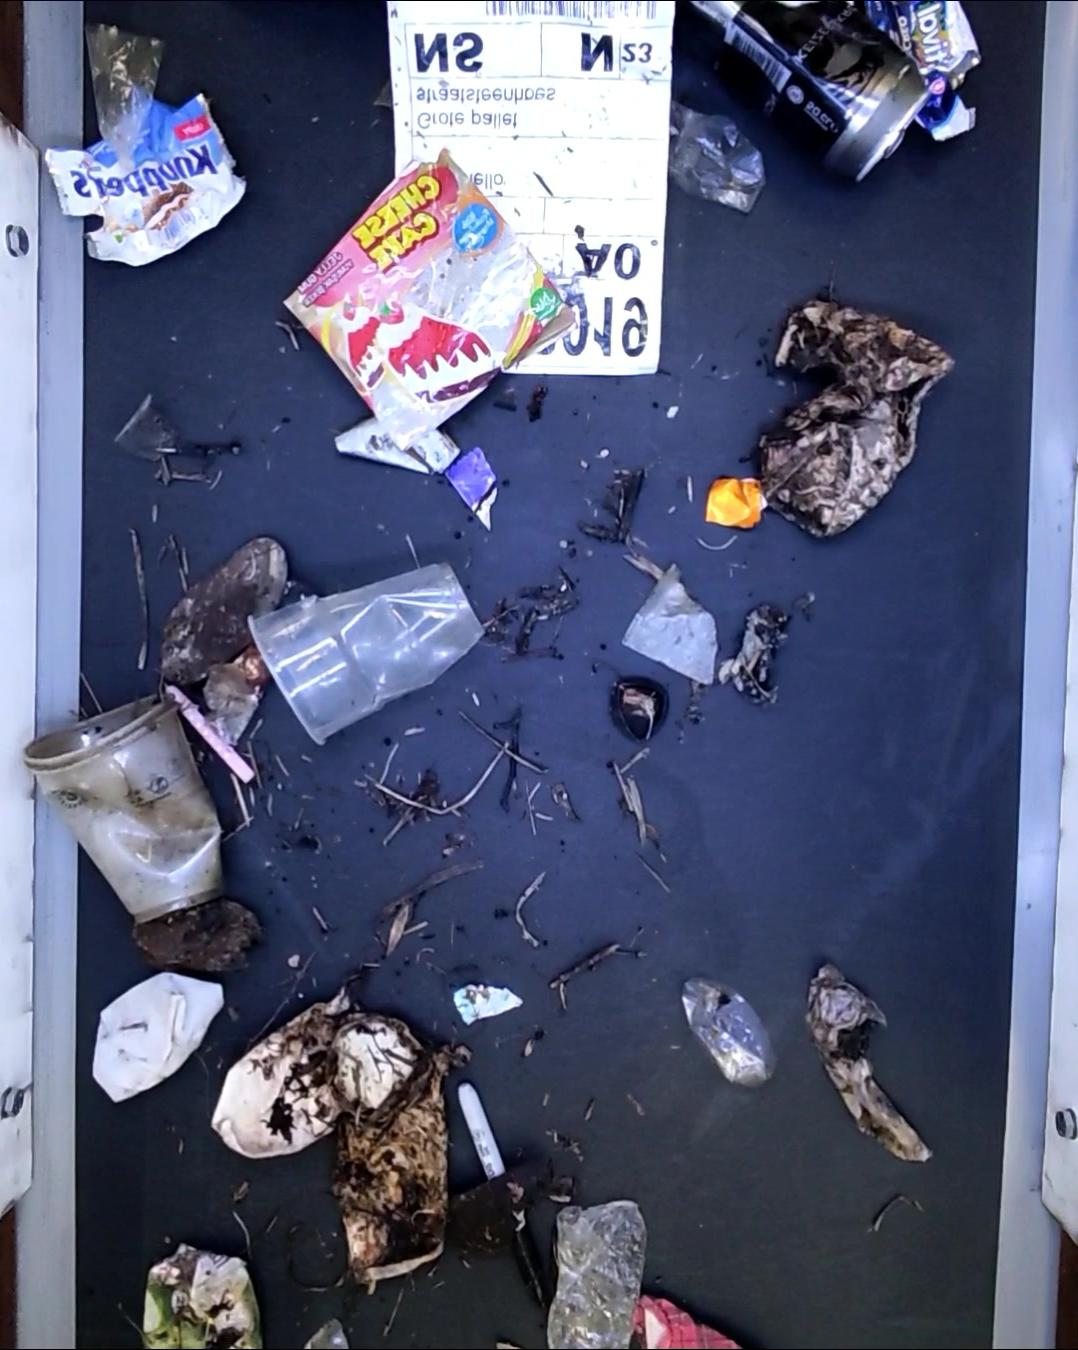Drankblikjes: (681, 0, 927, 187)
Plastic folies of stukken daarvan 2.5- 50 cm: (807, 961, 948, 1165), (549, 1201, 646, 1350), (620, 561, 719, 677), (88, 25, 164, 171), (679, 978, 773, 1089), (661, 109, 762, 211), (113, 397, 177, 462)
Snoep snack en chips verpakkingen: (279, 150, 569, 444), (47, 96, 242, 268), (864, 0, 982, 139), (443, 447, 498, 534)
